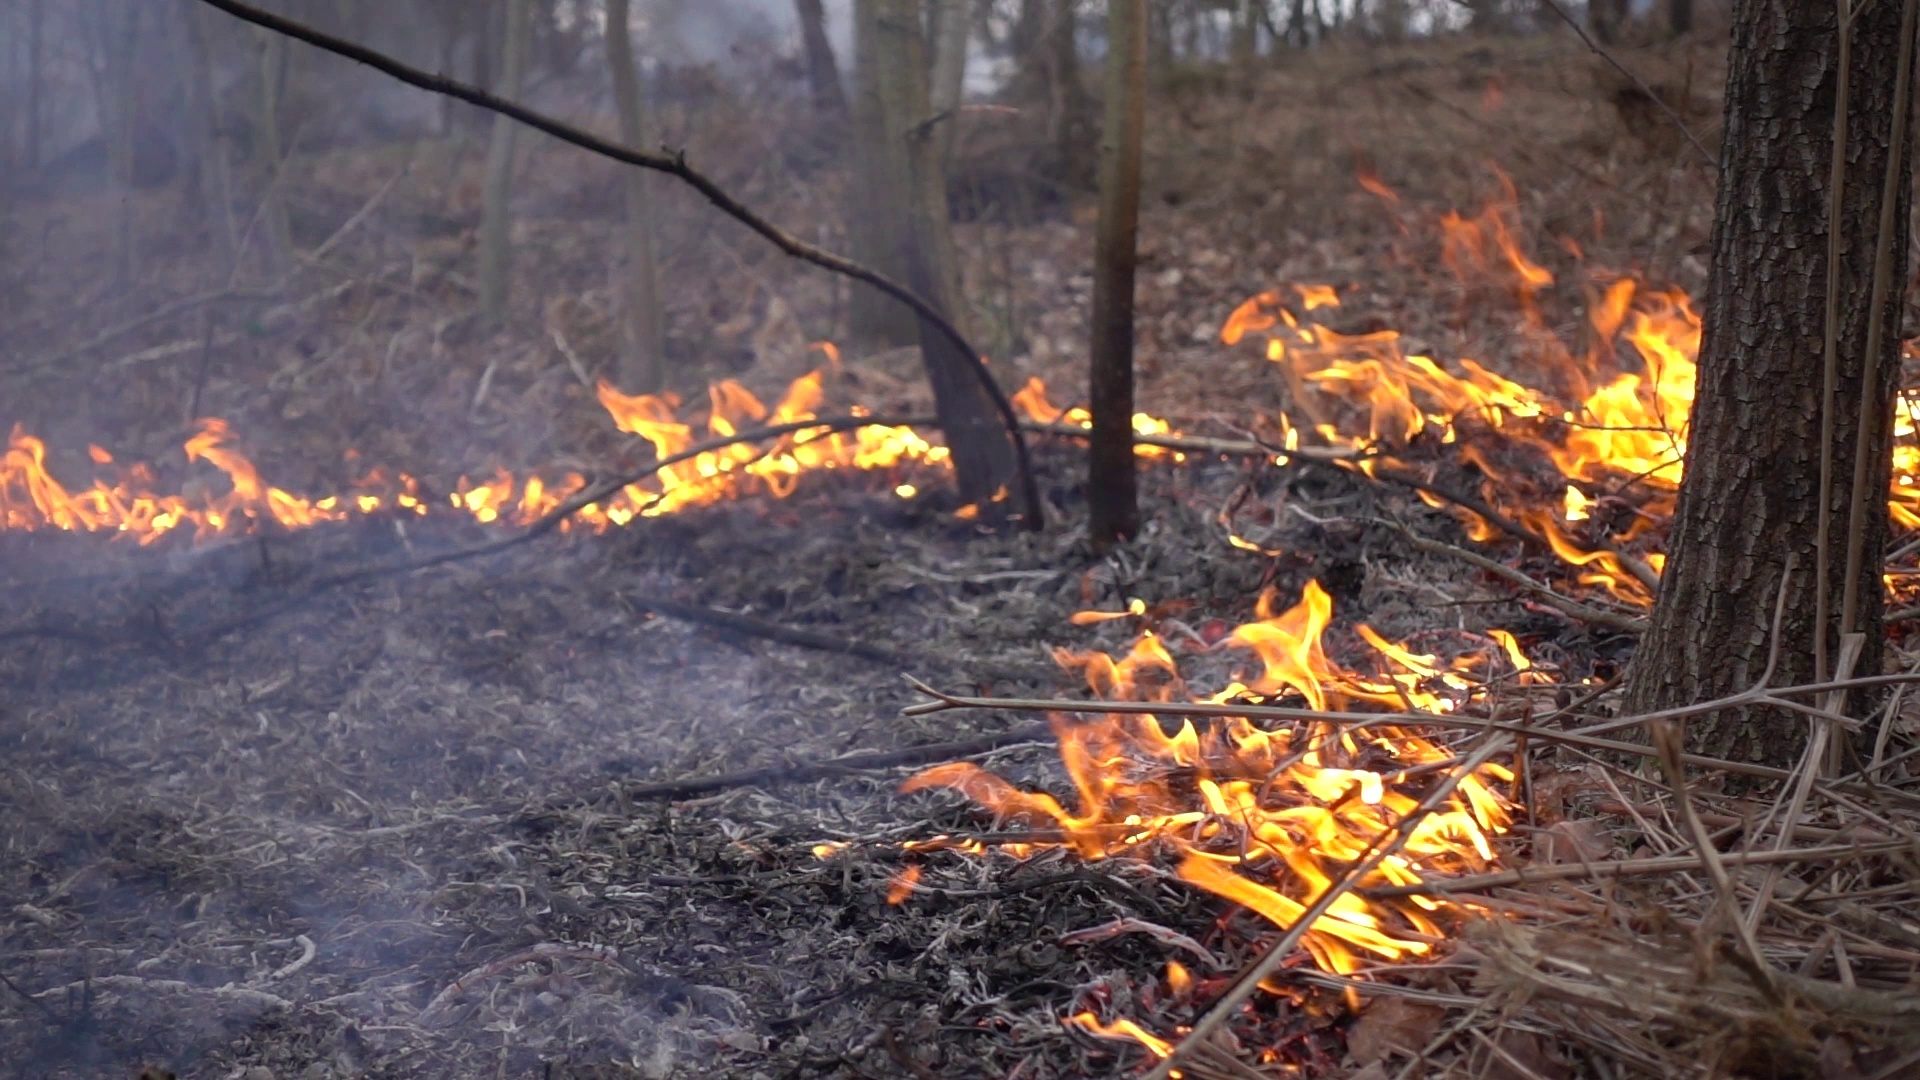fire: (972, 580, 1511, 977), (1224, 218, 1697, 513), (600, 375, 934, 534), (3, 421, 336, 535), (459, 477, 549, 520), (1891, 397, 1920, 520), (1134, 411, 1174, 459)
